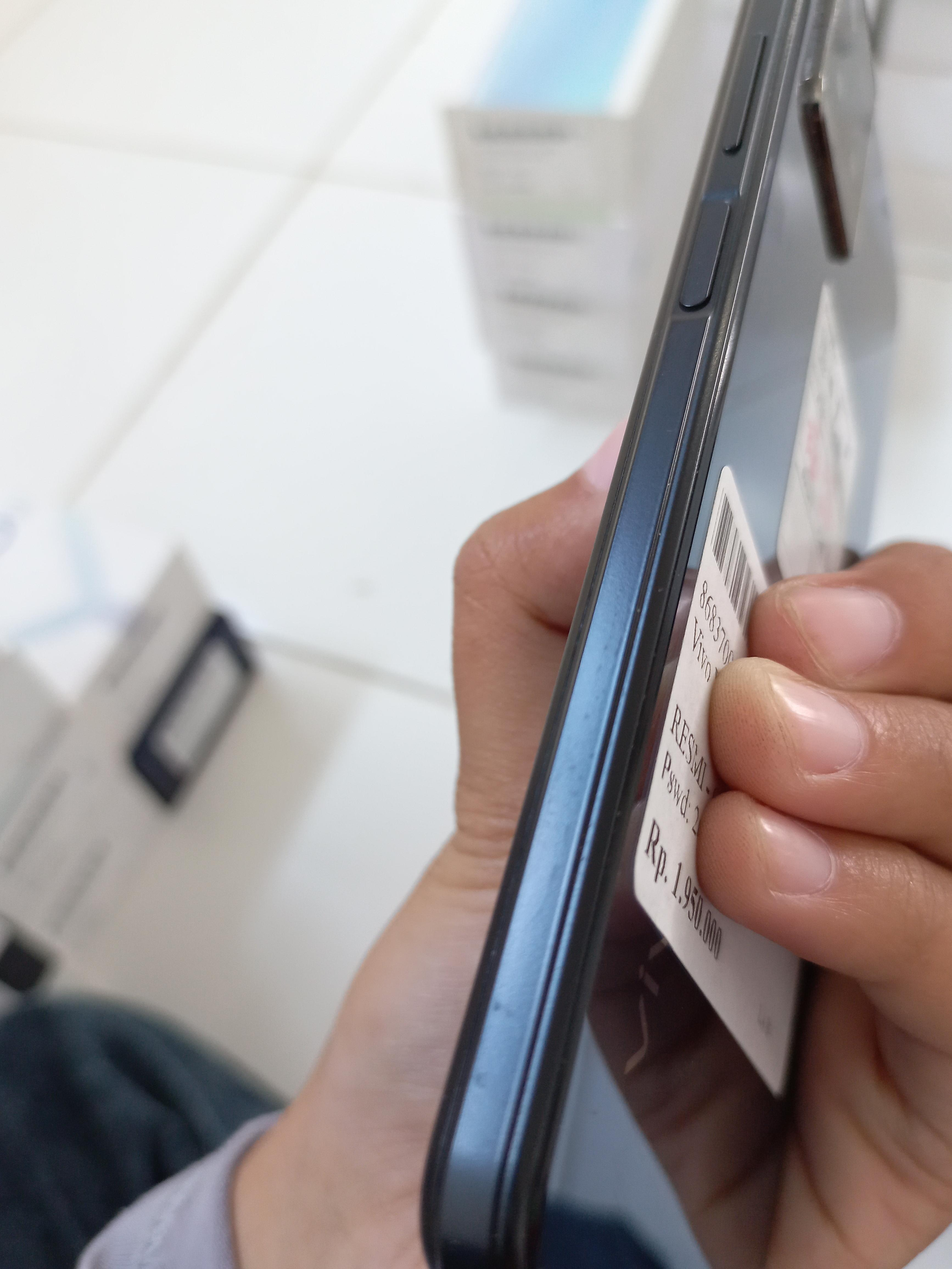Dents: (483, 991, 530, 1027), (471, 1061, 488, 1101)
